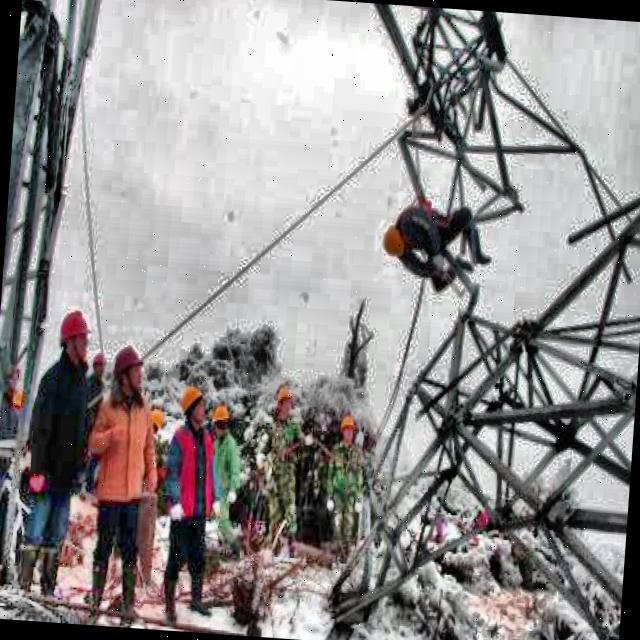helmet: (109, 342, 150, 407), (58, 308, 92, 366), (174, 382, 209, 432), (382, 220, 416, 261), (208, 397, 231, 439), (276, 385, 296, 421), (338, 410, 356, 446)
